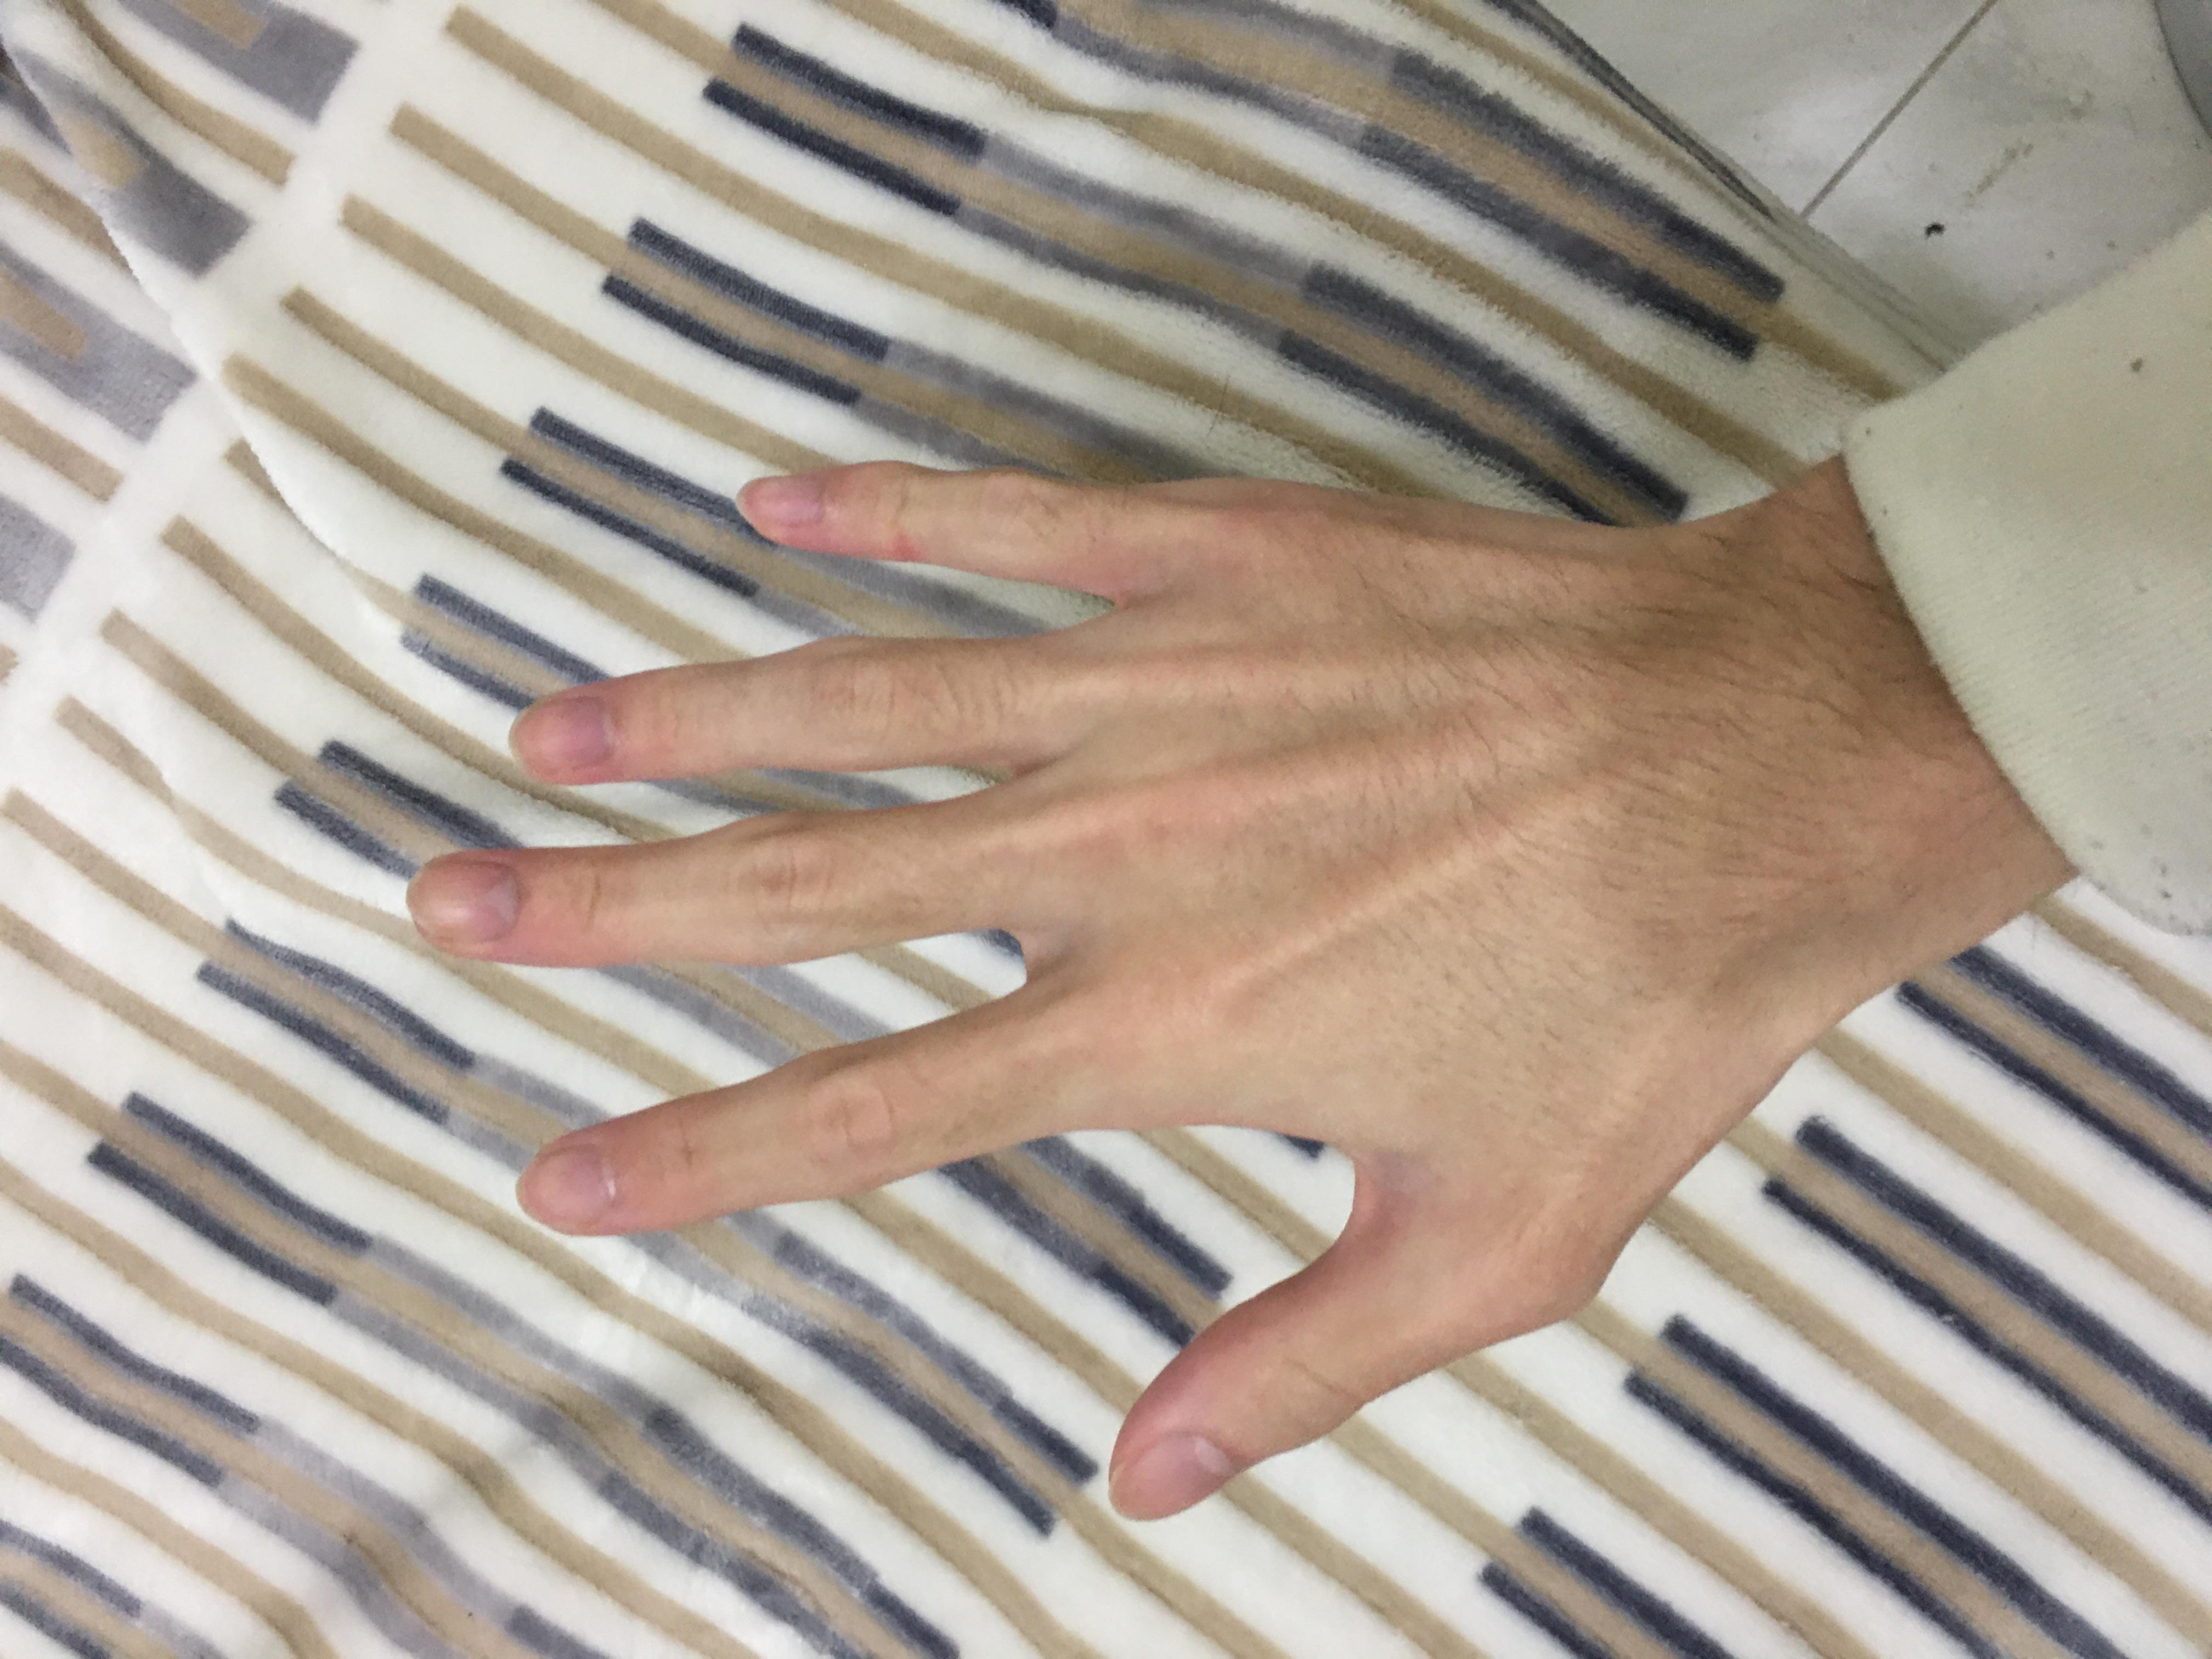hand: (176, 303, 1597, 1309)
